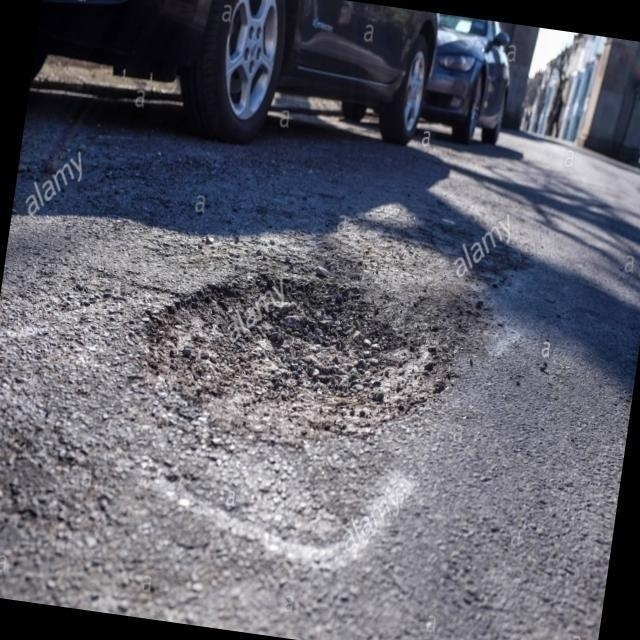pothole: (142, 260, 444, 436)
